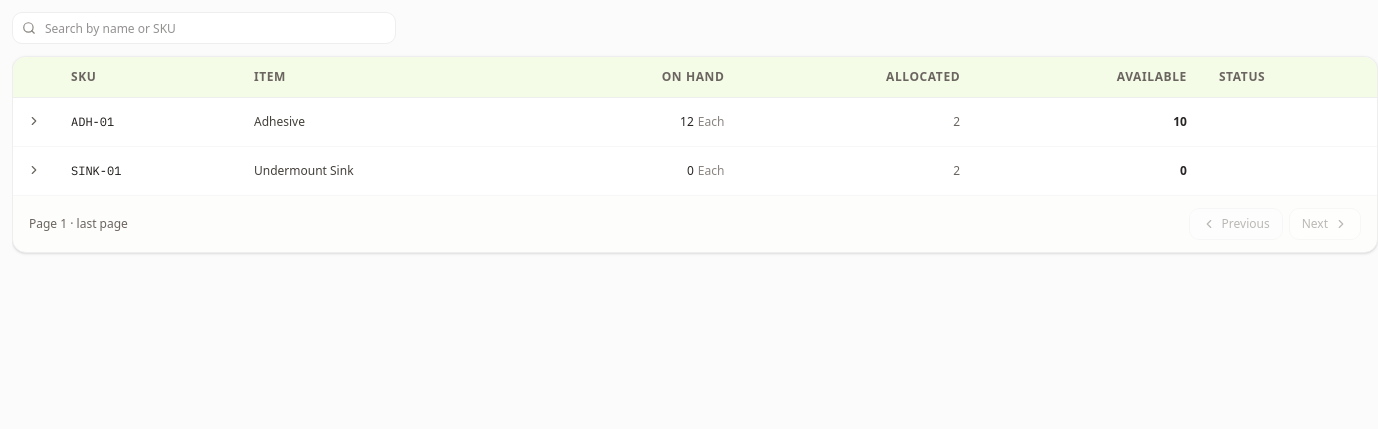
StockOnHandTable › opens an item to its per-location stock and reorder point
Click the button named "Show stock by location for Adhesive".
click(34, 121)  # box [25,112,43,130]
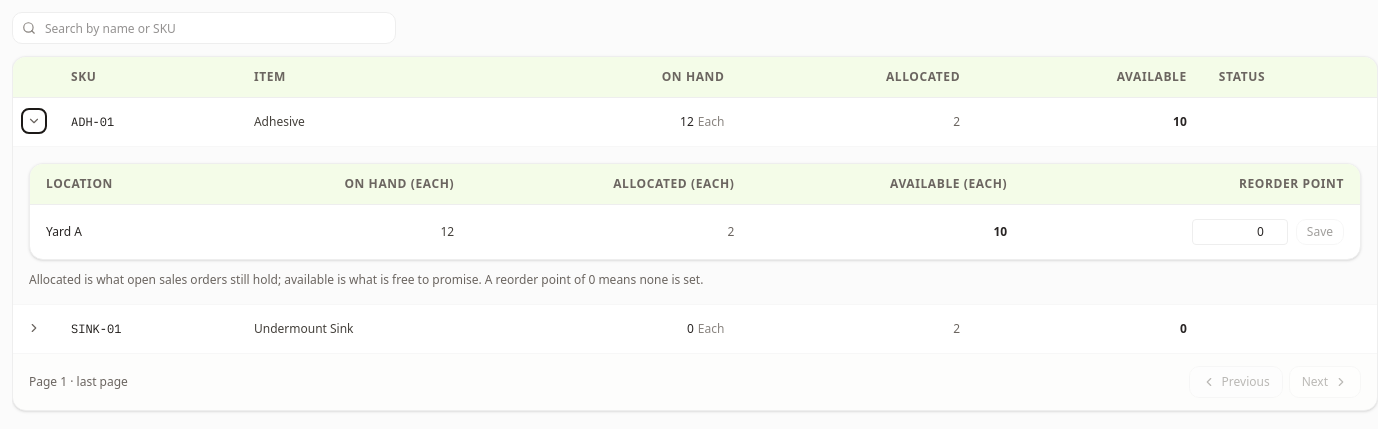
Now the text "Yard A" is shown, box [30,204,211,259]
Now the number field named "Reorder point at Yard A" is shown, box [1192,219,1288,245]
Click the button named "Hide stock by location for Adhesive".
click(34, 121)  # box [25,112,43,130]
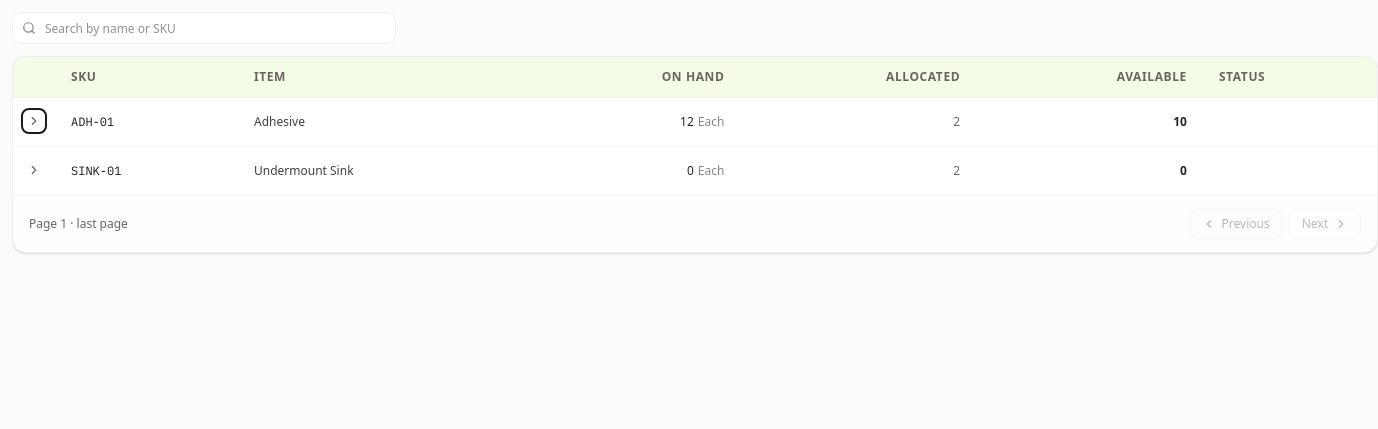
Now the text "Yard A" is gone
